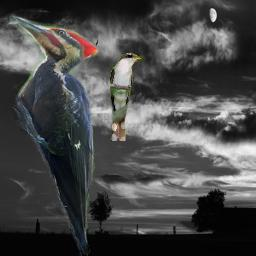Cuckoo: (109, 52, 145, 141)
Woodpecker: (7, 14, 100, 256)
